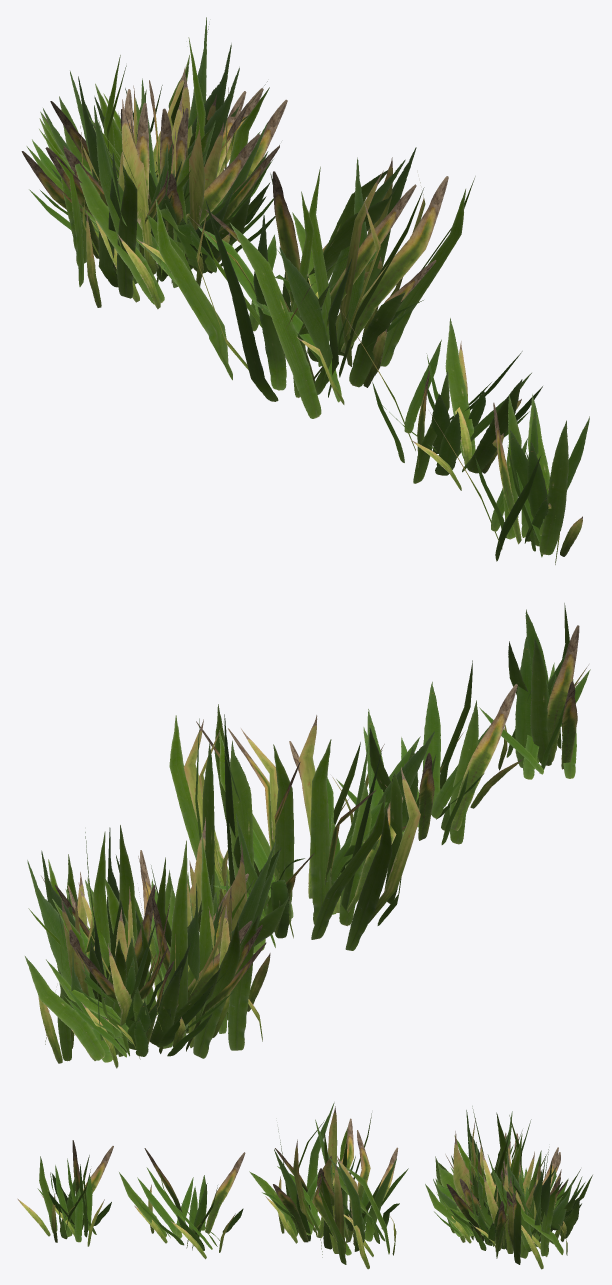
File: grass variations.fbx
3 renders of one model, top to bottom at view 1: azimuth 30°, elevation 25°; view 2: azimuth 150°, elevation 25°; view 3: azimuth 270°, elevation 25°, orthographic. The views are drawn at different scales.
Visible parts, largest first — view 1: grass_variant_1, grass_varient_2, grass_varien_4, grass_varient_3; view 2: grass_variant_1, grass_varient_2, grass_varient_3, grass_varien_4; view 3: grass_variant_1, grass_varient_2, grass_varient_3, grass_varien_4.
Boxes of the visible parts, x1,y1,x2,y2 form: grass_variant_1: (21,17,287,309); grass_varient_2: (155,147,475,418); grass_varien_4: (430,394,589,564); grass_varient_3: (343,313,542,490); grass_variant_1: (25,817,289,1068); grass_varient_2: (169,704,434,953); grass_varient_3: (332,660,522,844); grass_varien_4: (479,603,590,779); grass_variant_1: (425,1106,592,1269); grass_varient_2: (249,1102,408,1269); grass_varient_3: (119,1148,245,1259); grass_varien_4: (17,1140,113,1246).
Bounding box in the file's own units: 123 × 94.69 × 393.
